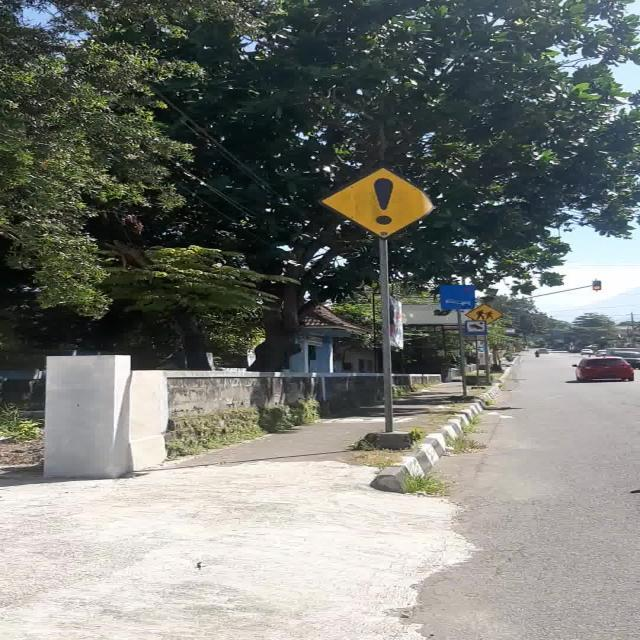Hati-Hati: (318, 167, 436, 240)
